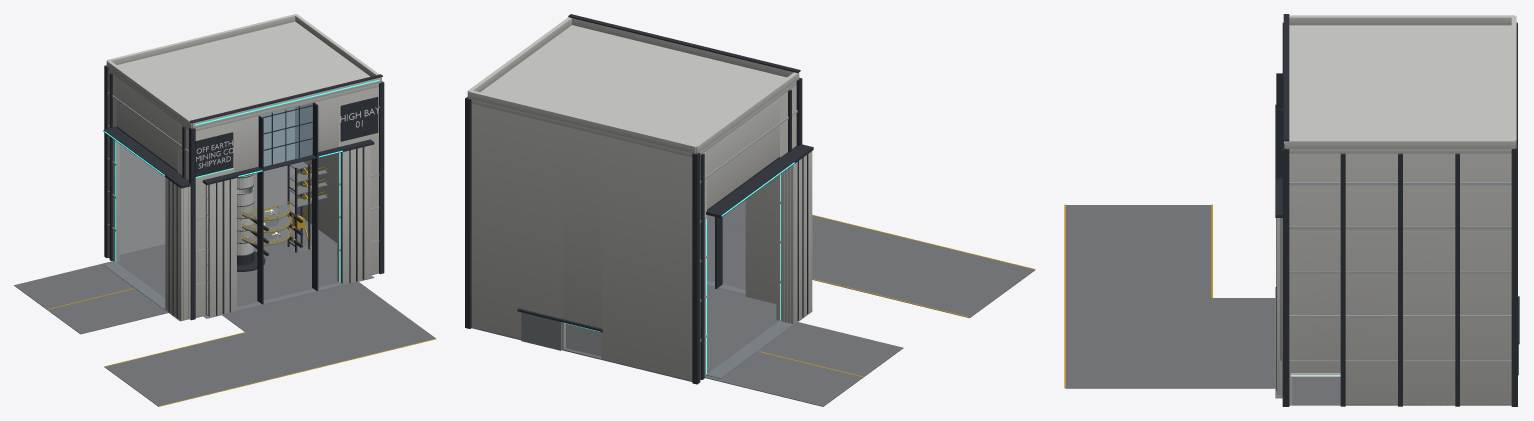
The model's file is shipyard_hb01_lv19_b_fd5332aa.glb.
3 views of the same model, side by side, from view 1: azimuth 30°, elevation 25°; view 2: azimuth 150°, elevation 25°; view 3: azimuth 270°, elevation 25° (orthographic). The views are drawn at different scales.
Visible parts, largest first — view 1: HB01_Static, HB01_DoorFront, HB01_DoorSide, HB01_Decks, HB01_BuildStack; view 2: HB01_Static, HB01_DoorSide; view 3: HB01_Static, HB01_DoorFront.
Boxes of the visible parts, x1,y1,x2,y2 form: HB01_Static: (14,14,436,406); HB01_DoorFront: (205,145,370,316); HB01_DoorSide: (165,177,190,320); HB01_Decks: (242,167,327,245); HB01_BuildStack: (237,174,254,265); HB01_Static: (465,14,1035,406); HB01_DoorSide: (781,151,812,323); HB01_Static: (1064,14,1519,406); HB01_DoorFront: (1276,218,1282,395).
Bounding box in the file's own units: 117 × 72.05 × 112.
